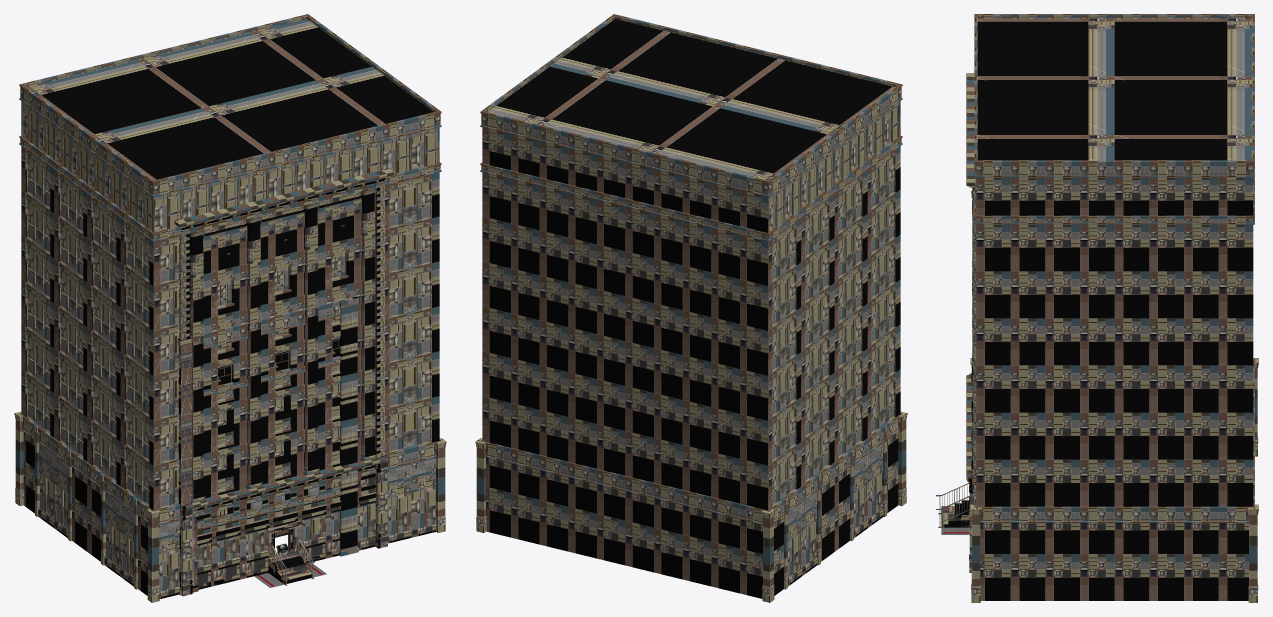
Rendered from city-blocks.glb.
3 renders of one model, left to right at view 1: azimuth 30°, elevation 25°; view 2: azimuth 150°, elevation 25°; view 3: azimuth 270°, elevation 25°, orthographic. The views are drawn at different scales.
Parts seen in each view (by area): view 1: headquarters, commerce, residence; view 2: headquarters; view 3: headquarters, commerce, residence.
Part boxes in pixels (bbox=[...]): headquarters: bbox=[14, 14, 446, 602]; commerce: bbox=[174, 168, 394, 596]; residence: bbox=[177, 296, 358, 595]; headquarters: bbox=[475, 14, 907, 602]; headquarters: bbox=[970, 14, 1258, 602]; commerce: bbox=[966, 73, 975, 572]; residence: bbox=[936, 200, 972, 527].
Size of the model in its own units: 20.64 by 28.5 by 18.63.
Materials: 15 (13 with a texture image).
